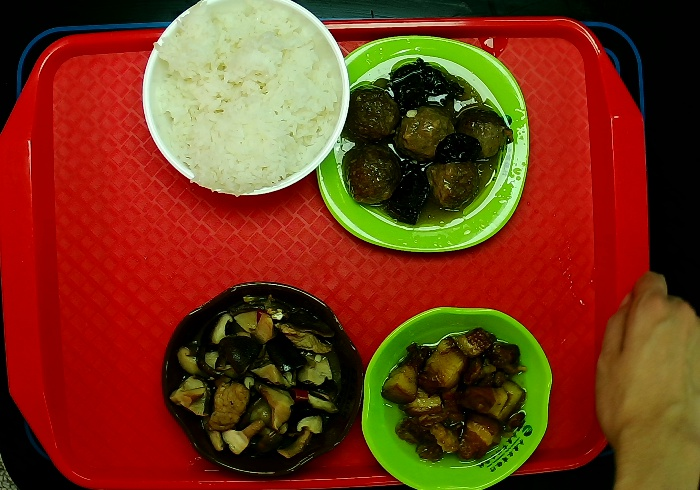YKMZ-Fan_Wan: (137, 1, 352, 200)
YKMZ-Ka_Fei_Ao_Bian_Wan: (157, 278, 368, 484)
YKMZ-Lv_Se_Ao_Bian_Wan: (357, 303, 557, 490)
YKMZ-Lv_Se_Fang_Die: (313, 31, 533, 260)
